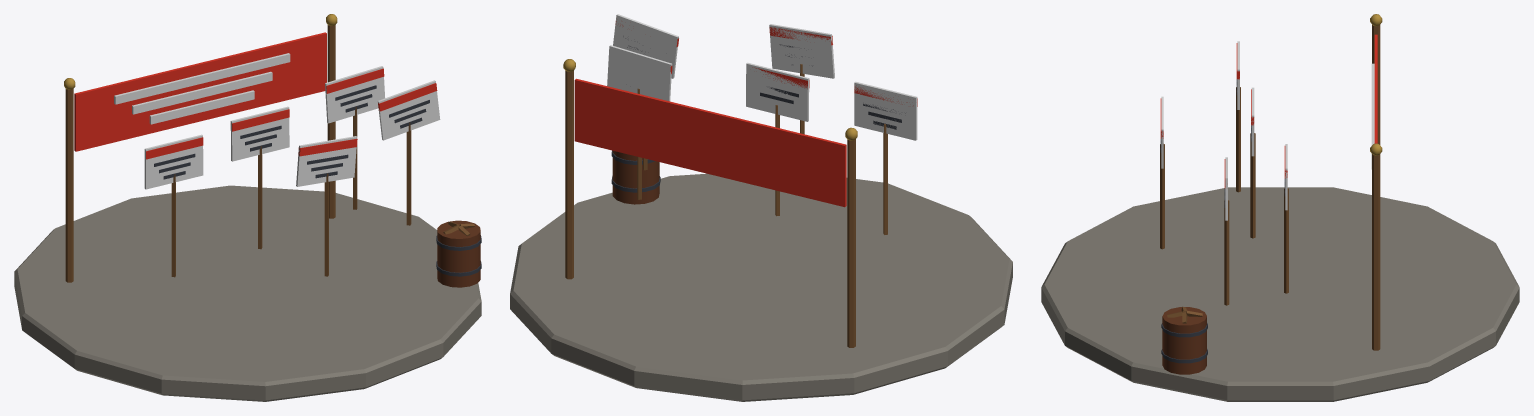
File: picket.fbx
3 renders of one model, left to right at view 1: azimuth 30°, elevation 25°; view 2: azimuth 150°, elevation 25°; view 3: azimuth 270°, elevation 25°, orthographic. The views are drawn at different scales.
Visible parts, largest first — view 1: picket, picket__placards; view 2: picket, picket__placards; view 3: picket, picket__placards.
Boxes of the visible parts, bbox=[...] form: picket: bbox=[14, 14, 481, 401]; picket__placards: bbox=[144, 66, 440, 277]; picket: bbox=[510, 59, 1012, 401]; picket__placards: bbox=[607, 14, 917, 234]; picket: bbox=[1041, 14, 1519, 401]; picket__placards: bbox=[1160, 41, 1288, 305].
Bounding box in the file's own units: 1.46 × 0.78 × 1.5.
